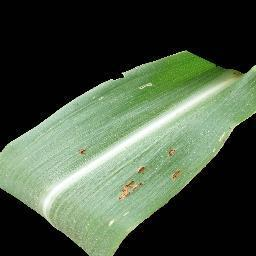Corn_Common_Rust: (116, 164, 147, 200), (76, 143, 91, 158), (170, 168, 185, 182), (138, 81, 156, 92), (165, 145, 181, 157)
